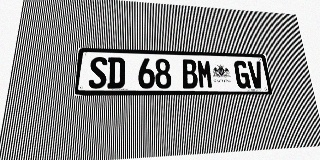6: (138, 58, 155, 89)
8: (155, 58, 172, 89)
B: (181, 59, 198, 89)
D: (107, 57, 125, 89)
G: (234, 61, 251, 88)
M: (197, 60, 214, 88)
S: (88, 57, 108, 89)
V: (247, 61, 265, 88)
